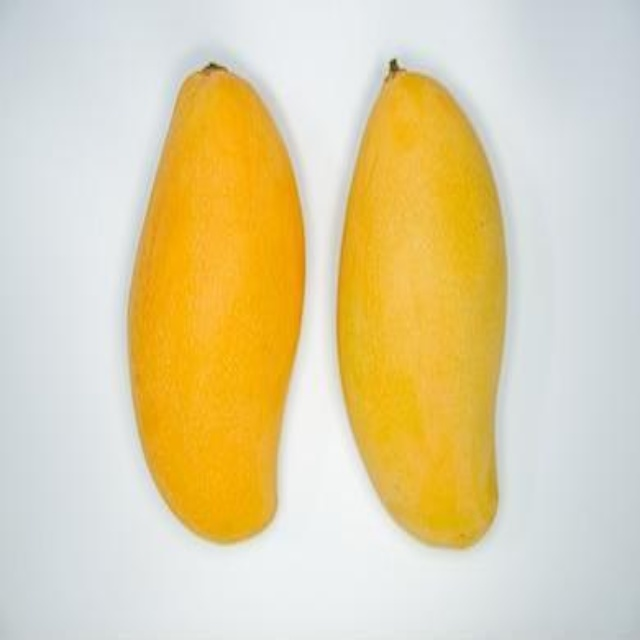mango: (341, 59, 522, 548), (126, 60, 305, 546)
